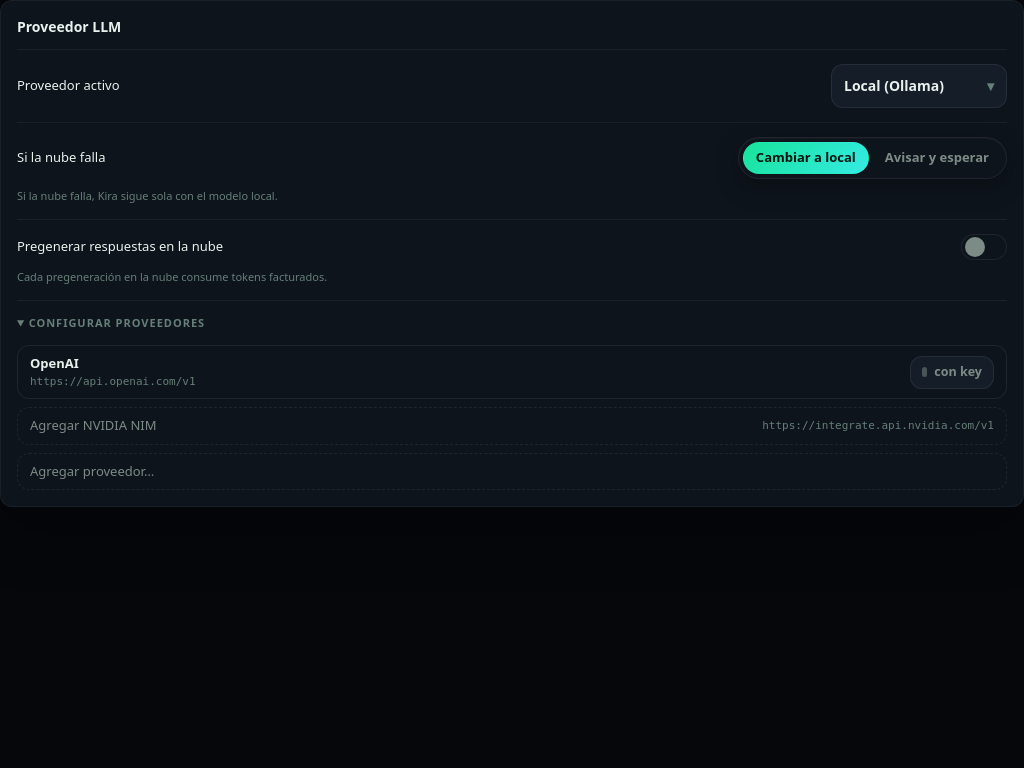
Scenario: ProviderCard active-provider selector is a selector-only switch › preserves the SPECIFIC missing field for base_url and model variants
Click the dropdown named "Proveedor activo".
click(919, 86)  # box [831, 64, 1007, 108]
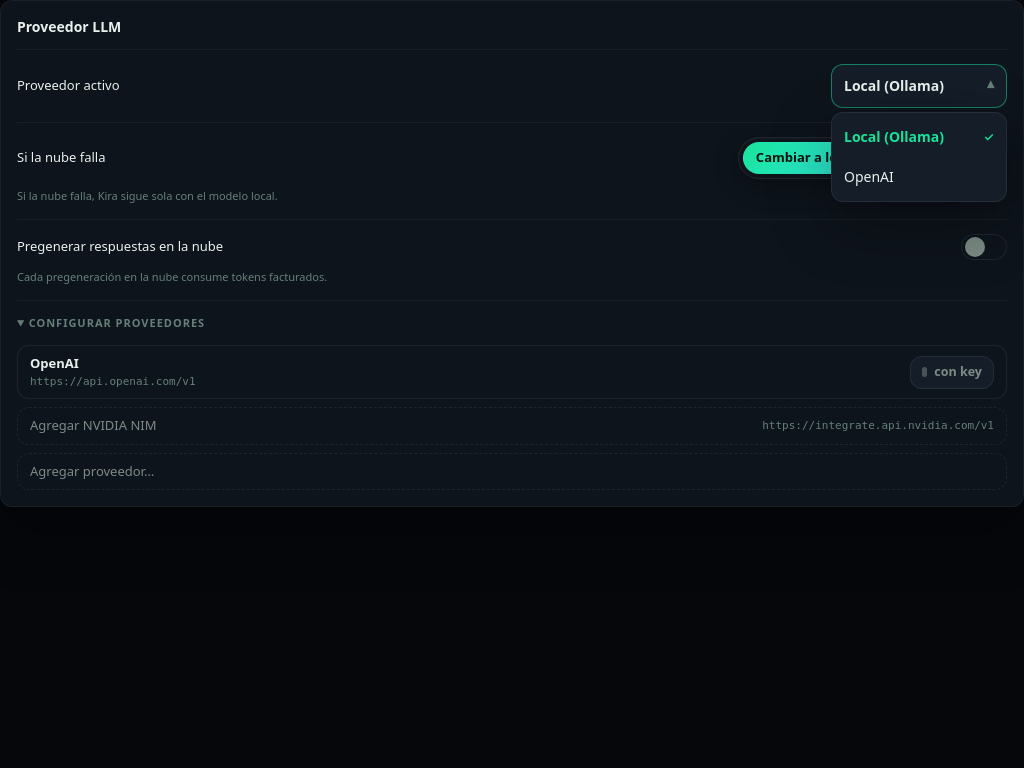
Click the option "OpenAI".
click(869, 176)  # box [844, 167, 894, 186]
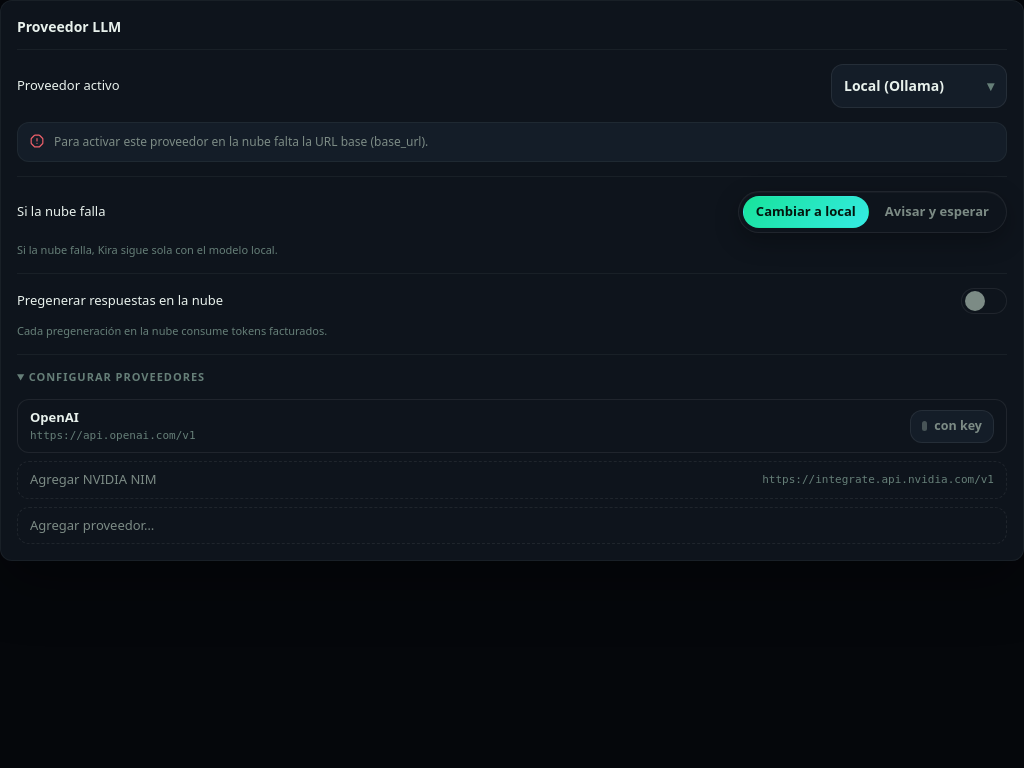
Now the message reads "Para activar este proveedor en la nube falta la URL base (base_url).", box [54, 133, 428, 150]
